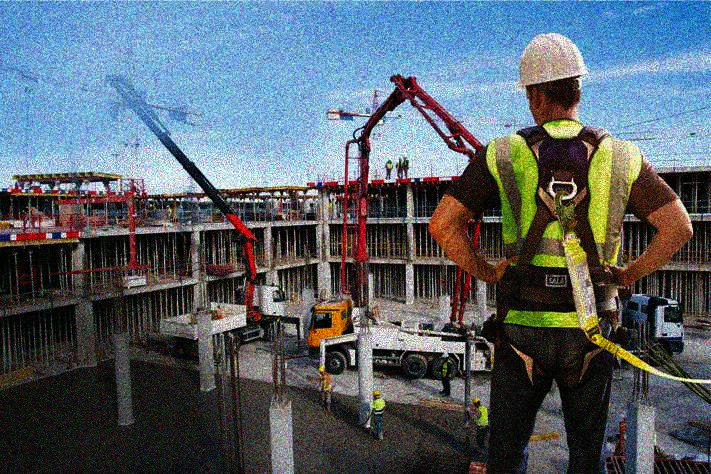helmet: (509, 28, 592, 126), (372, 388, 381, 400), (472, 396, 481, 408), (318, 367, 327, 377), (441, 351, 449, 361), (387, 158, 392, 164), (397, 155, 402, 161), (403, 155, 408, 160), (166, 204, 170, 209)
